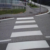zebra: (6, 17, 50, 49)
